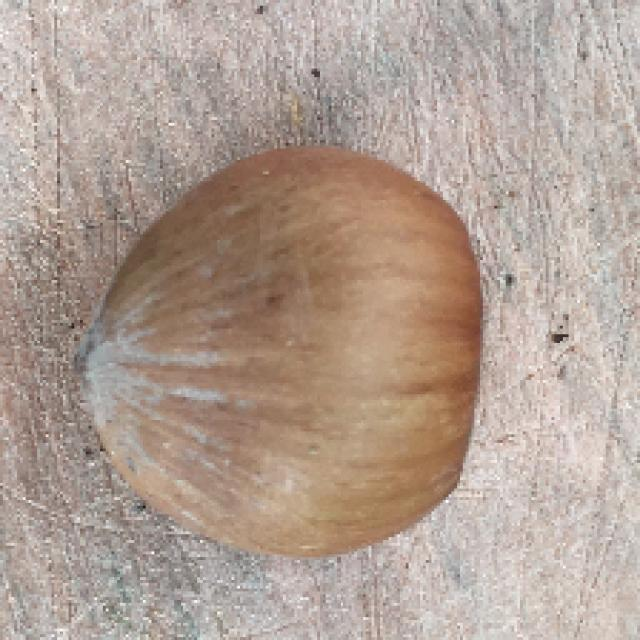damagedHazelnut: (84, 131, 478, 550)
